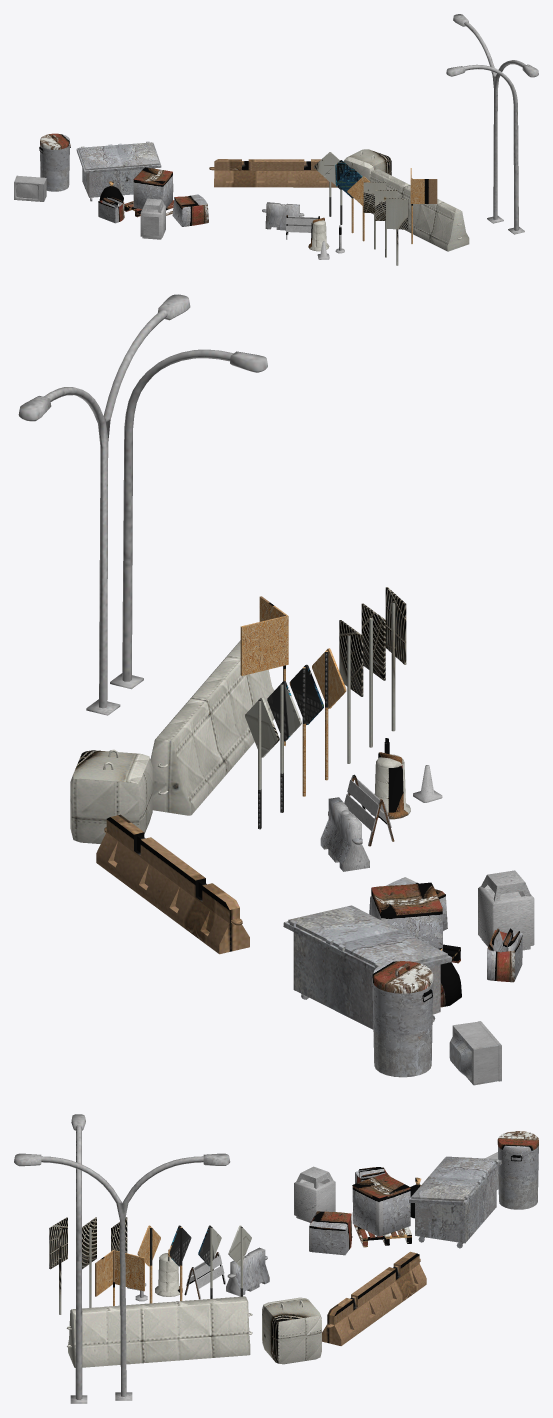
Rendered from propes.fbx.
The picture shows the model from 3 angles, top to bottom: view 1: azimuth 30°, elevation 25°; view 2: azimuth 150°, elevation 25°; view 3: azimuth 270°, elevation 25°; orthographic projection. The views are drawn at different scales.
Parts seen in each view (by area): view 1: bask, b1, b3, bal, STREET_LIH, b4, STREET_LIH1, b5, bas, b2, s2, tv (+11 smaller); view 2: b3, bask, b1, bal, b2, STREET_LIH, STREET_LIH1, bas, b4, a4, tv, r4 (+10 smaller); view 3: b3, bask, b1, b2, STREET_LIH, bal, b4, STREET_LIH1, bas, b5, a4, r4 (+10 smaller).
Boxes of the visible parts, x1,y1,x2,y2 form: bask: (76, 141, 161, 201); b1: (209, 159, 337, 187); b3: (369, 169, 469, 251); bal: (39, 133, 70, 191); STREET_LIH: (453, 14, 538, 223); b4: (133, 167, 173, 208); STREET_LIH1: (446, 64, 524, 234); b5: (172, 194, 208, 226); bas: (140, 198, 165, 239); b2: (344, 149, 391, 180); s2: (386, 198, 408, 265); tv: (14, 175, 46, 201); b3: (150, 640, 274, 815); bask: (283, 905, 451, 1029); b1: (96, 814, 249, 954); bal: (372, 961, 433, 1077); b2: (70, 749, 152, 843); STREET_LIH: (18, 294, 190, 715); STREET_LIH1: (110, 349, 267, 689); bas: (478, 870, 534, 950); b4: (371, 882, 442, 950); a4: (240, 596, 288, 745); tv: (449, 1021, 501, 1085); r4: (320, 797, 369, 871); b3: (66, 1296, 252, 1367); bask: (409, 1156, 501, 1248); b1: (322, 1251, 426, 1345); b2: (262, 1297, 321, 1364); STREET_LIH: (14, 1153, 230, 1400); bal: (497, 1131, 538, 1209); b4: (352, 1173, 410, 1236); STREET_LIH1: (70, 1114, 87, 1403); bas: (294, 1166, 335, 1222); b5: (309, 1211, 352, 1255); a4: (95, 1250, 144, 1305); r4: (226, 1247, 269, 1296).
Size of the model in its own units: 922 by 448 by 881.
